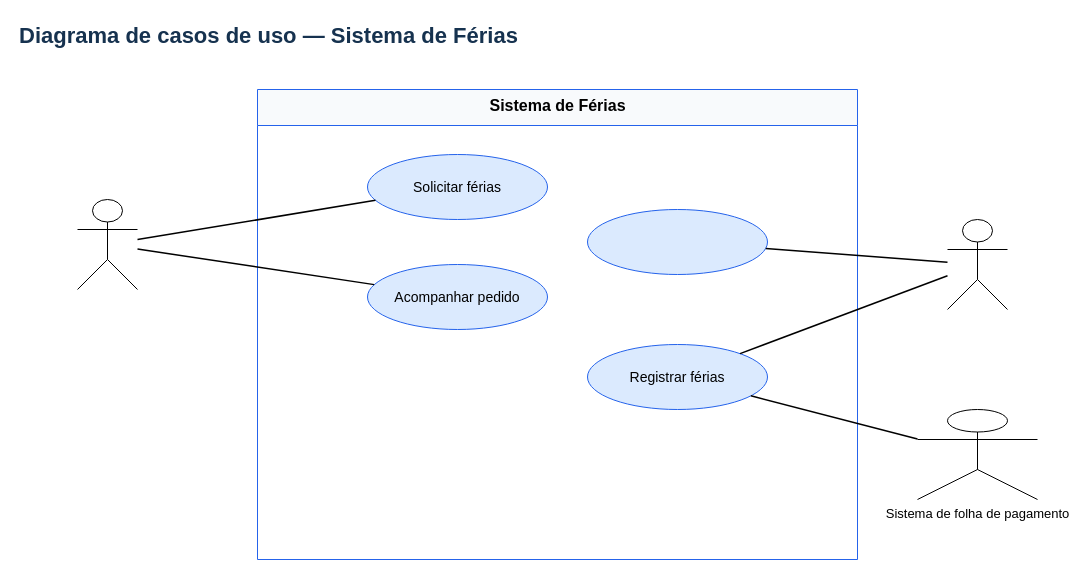
This 1086x577 diagram has some shape labels left out. The centre of each missing label's shape, as x and y in pixels:
"Analisar pedido" belongs at (677,241).
"Colaborador" belongs at (107,244).
"Gestor" belongs at (977,264).
